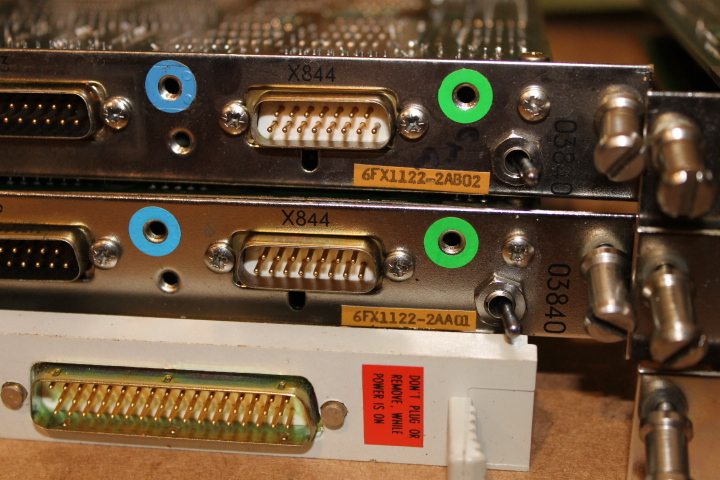Audio: (432, 65, 499, 125)
